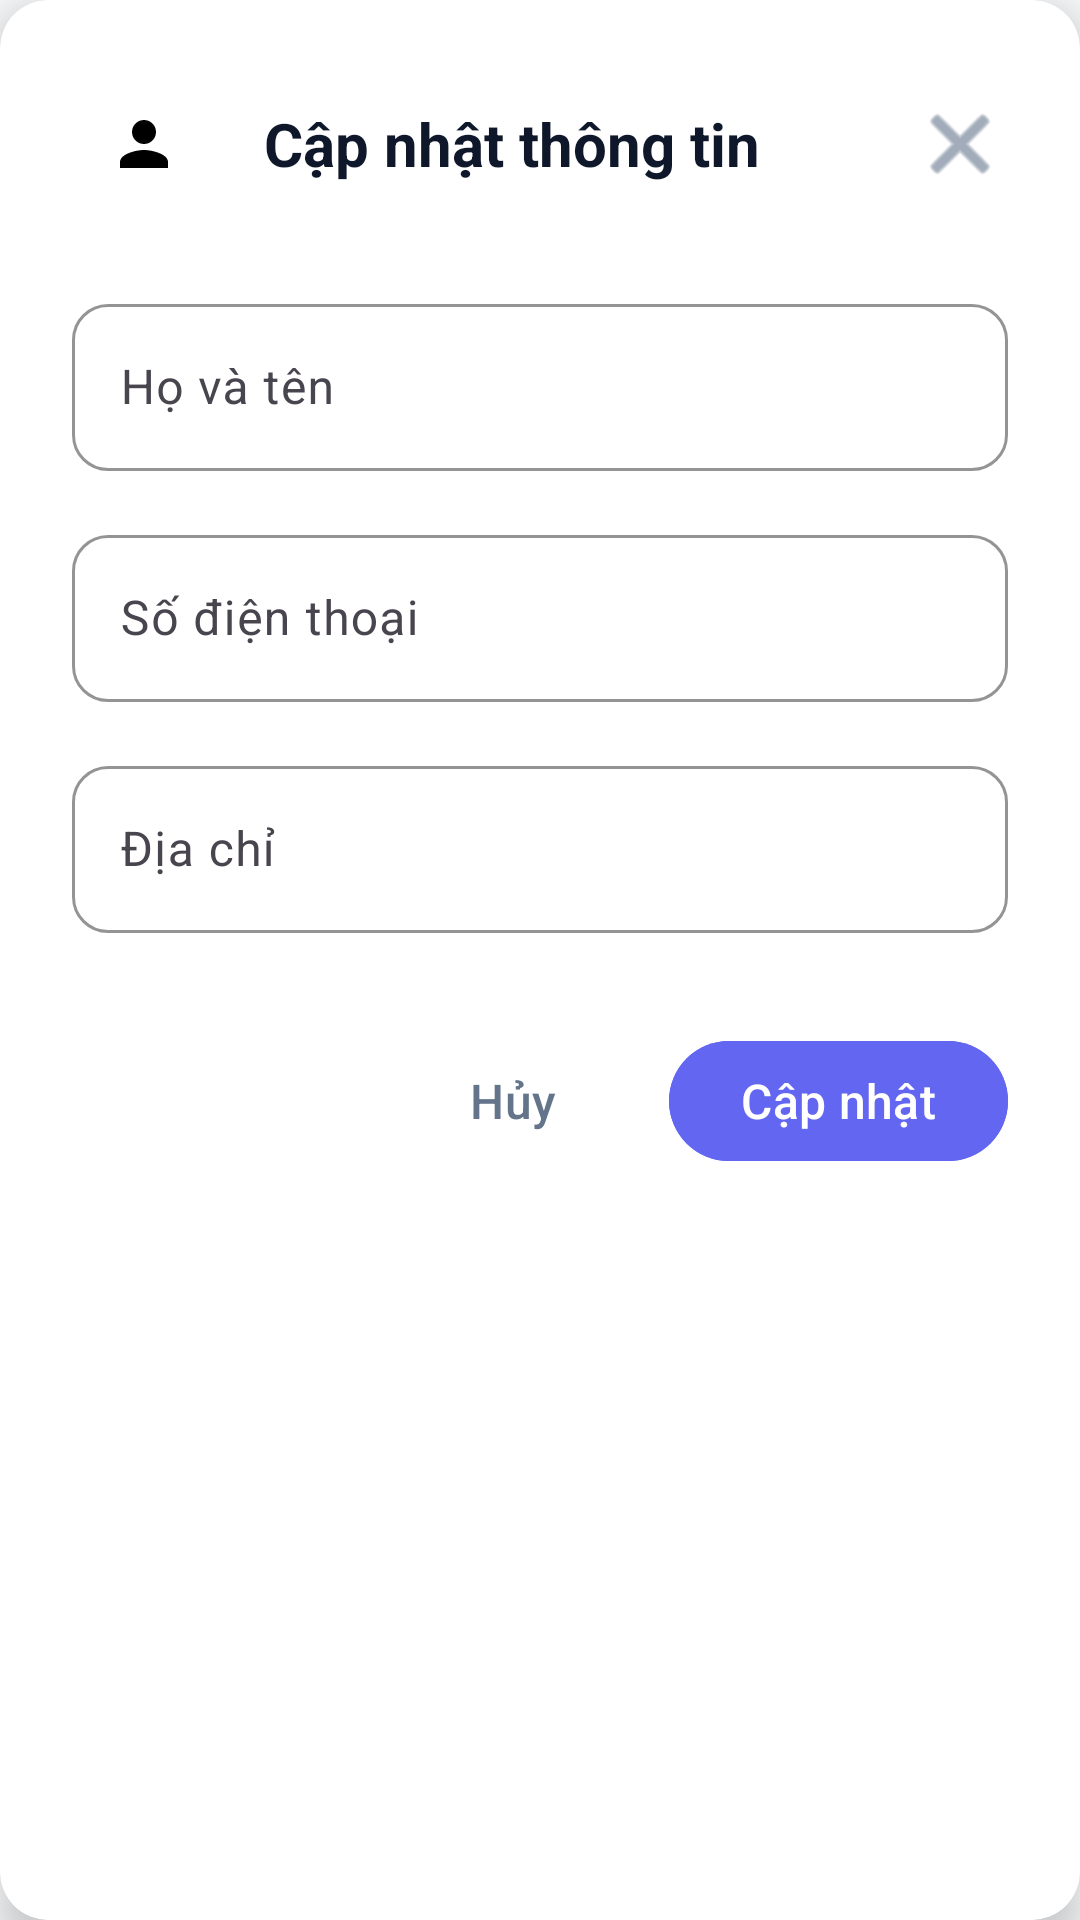

Where icons sit on this 1080 × 1920 app screen, as (x1, y1, x2, y2):
Đóng: (930, 114, 990, 174)
